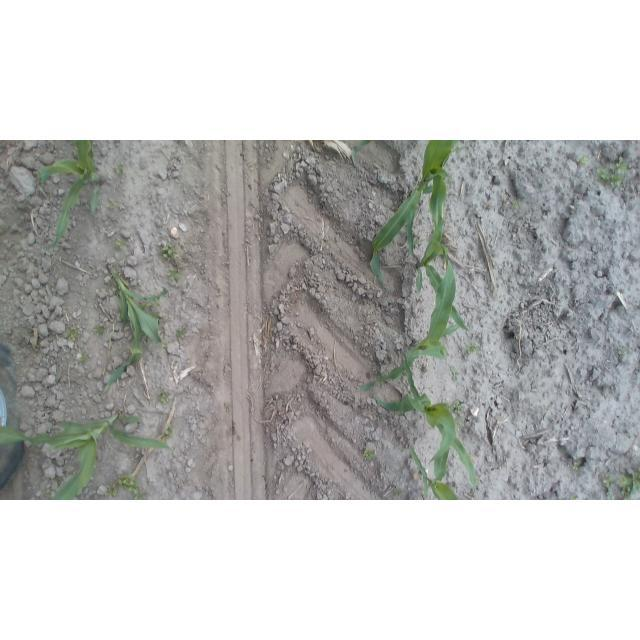Maize: (355, 240, 469, 396), (367, 353, 481, 497), (0, 404, 172, 499), (371, 141, 466, 302), (102, 263, 173, 395), (407, 181, 465, 342), (34, 140, 108, 252), (407, 431, 461, 499), (348, 140, 373, 170)
Weeds: (595, 155, 629, 191), (115, 473, 144, 500), (617, 471, 639, 498), (160, 241, 181, 262), (602, 475, 615, 499), (156, 388, 172, 406), (65, 325, 80, 344), (103, 482, 118, 499), (448, 365, 460, 384), (465, 341, 480, 356), (161, 425, 175, 441), (92, 323, 108, 337), (166, 267, 182, 281), (113, 237, 127, 252), (449, 400, 463, 414), (363, 449, 378, 462), (175, 327, 189, 340), (114, 161, 127, 175), (77, 351, 92, 363), (575, 155, 590, 167), (40, 487, 55, 498), (571, 459, 582, 473), (616, 346, 628, 358), (140, 301, 153, 312), (392, 488, 404, 498), (52, 474, 62, 486), (105, 202, 118, 211), (159, 340, 170, 350), (512, 198, 521, 210), (569, 491, 581, 499), (224, 404, 233, 413)
